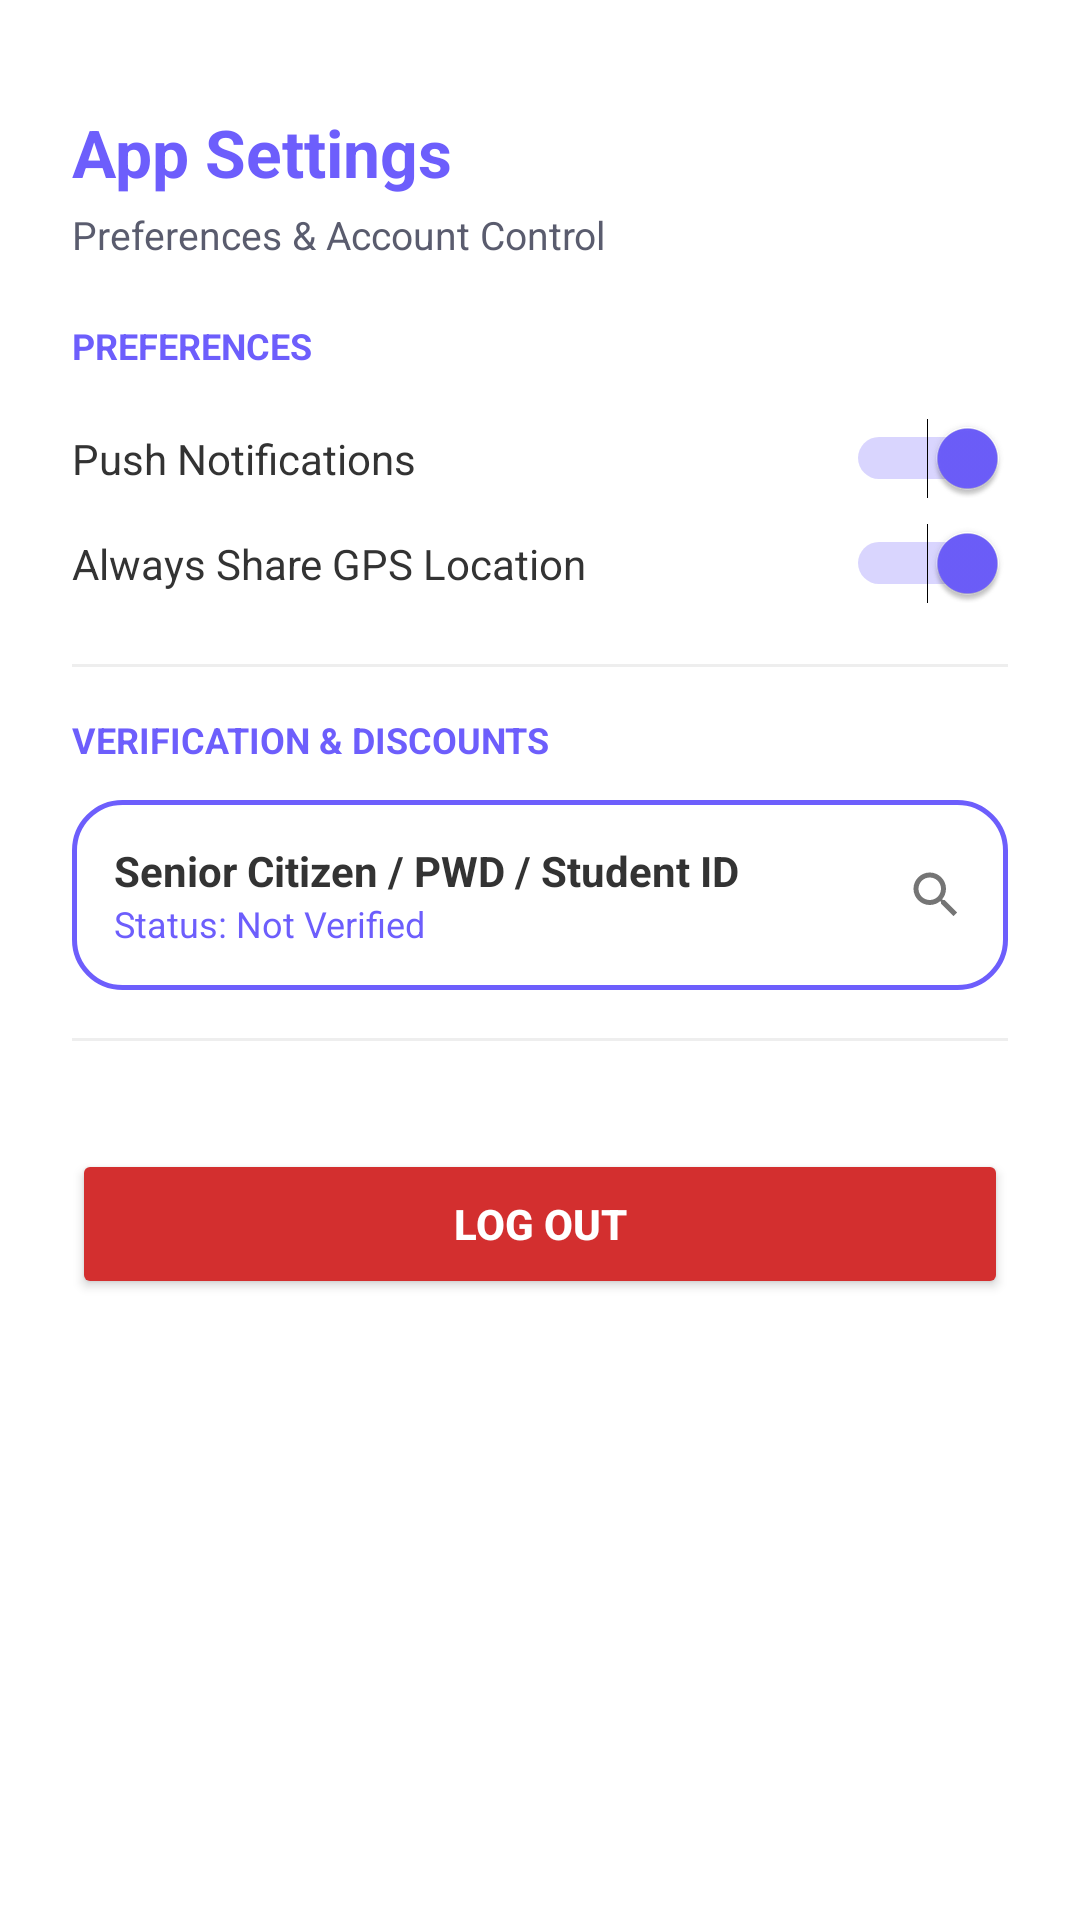

Point at icon controls on the screen. Image size 1080x1920, points as (x,y).
search: (935,894)
